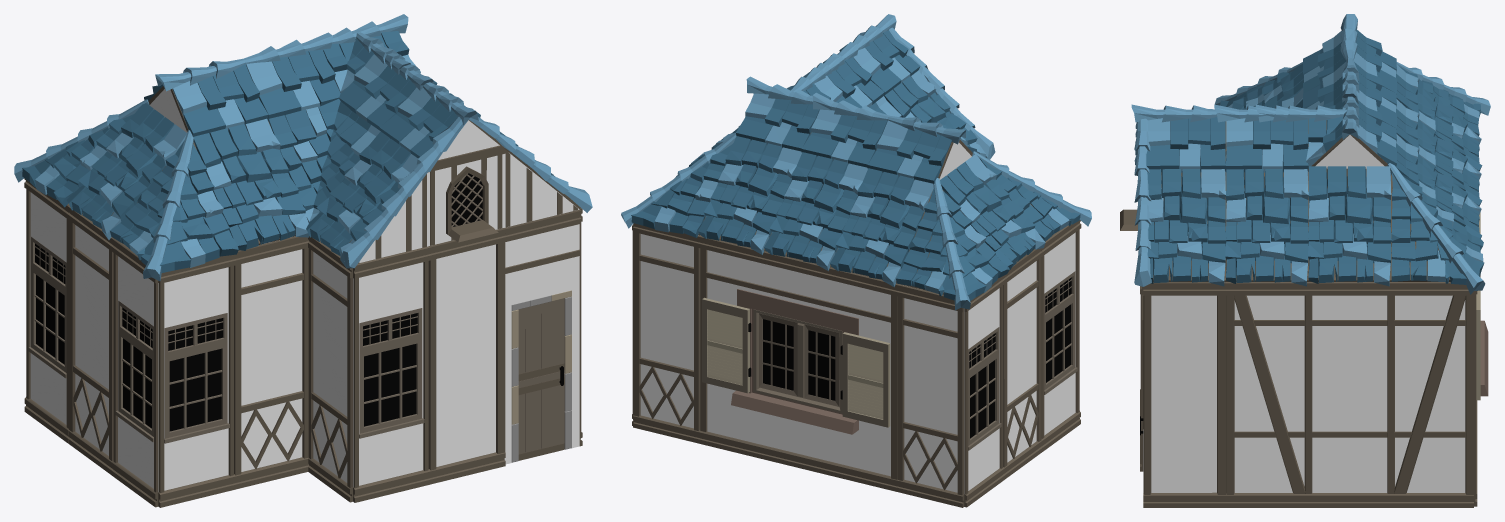
The model's file is house_06_full.glb.
3 renders of one model, left to right at view 1: azimuth 30°, elevation 25°; view 2: azimuth 150°, elevation 25°; view 3: azimuth 270°, elevation 25°, orthographic. The views are drawn at different scales.
Parts seen in each view (by area): view 1: WALL_03_3, WINDOW_04_3, WINDOW_04_4, WALL_01_3, DOOR_02_2, WINDOW_04_5, WALL_01_4, WALL_01_2, WINDOW_04_6, ROOF_corner_out_4, ROOF_base_10, ROOF_base_11 (+21 smaller); view 2: WINDOW_06_2, WALL_01_5, WALL_01_6, WINDOW_04_6, WINDOW_04_5, WALL_01_4, ROOF_corner_out_3, ROOF_base_8, ROOF_base_7, ROOF_base_6, ROOF_base_11, ROOF_corner_out_2 (+14 smaller); view 3: WALL_02_2, WALL_03_4, ROOF_base_5, ROOF_base_4, ROOF_base_3, ROOF_corner_out_2, ROOF_base_small_5, ROOF_base_small_4, ROOF_base_6, ROOF_base_8, ROOF_base_7, ROOF_tile_side_2 (+19 smaller).
Boxes of the visible parts, x1,y1,x2,y2 form: WALL_03_3: [428, 228, 505, 484]; WINDOW_04_3: [353, 246, 430, 502]; WINDOW_04_4: [158, 254, 235, 507]; WALL_01_3: [234, 236, 308, 489]; DOOR_02_2: [504, 209, 581, 464]; WINDOW_04_5: [111, 238, 158, 507]; WALL_01_4: [68, 206, 113, 474]; WALL_01_2: [308, 236, 352, 502]; WINDOW_04_6: [24, 178, 69, 443]; ROOF_corner_out_4: [110, 130, 238, 281]; ROOF_base_10: [193, 118, 309, 250]; ROOF_base_11: [66, 103, 186, 239]; WINDOW_06_2: [699, 235, 897, 491]; WALL_01_5: [896, 284, 964, 507]; WALL_01_6: [633, 223, 700, 443]; WINDOW_04_6: [964, 275, 1004, 507]; WINDOW_04_5: [1041, 220, 1081, 451]; WALL_01_4: [1003, 248, 1042, 479]; ROOF_corner_out_3: [896, 178, 1009, 310]; ROOF_base_8: [830, 168, 933, 287]; ROOF_base_7: [764, 152, 867, 270]; ROOF_base_6: [698, 136, 801, 254]; ROOF_base_11: [940, 154, 1045, 269]; ROOF_corner_out_2: [621, 132, 736, 237]; WALL_02_2: [1226, 282, 1473, 507]; WALL_03_4: [1143, 282, 1225, 507]; ROOF_base_5: [1307, 166, 1391, 286]; ROOF_base_4: [1225, 166, 1308, 286]; ROOF_base_3: [1143, 166, 1226, 286]; ROOF_corner_out_2: [1387, 163, 1485, 294]; ROOF_base_small_5: [1226, 118, 1308, 172]; ROOF_base_small_4: [1146, 117, 1225, 172]; ROOF_base_6: [1396, 134, 1481, 238]; ROOF_base_8: [1396, 64, 1482, 171]; ROOF_base_7: [1396, 99, 1482, 206]; ROOF_tile_side_2: [1134, 118, 1151, 286].
Size of the model in its own units: 5.41 by 4.65 by 4.49.
1 material, 1 textured.
